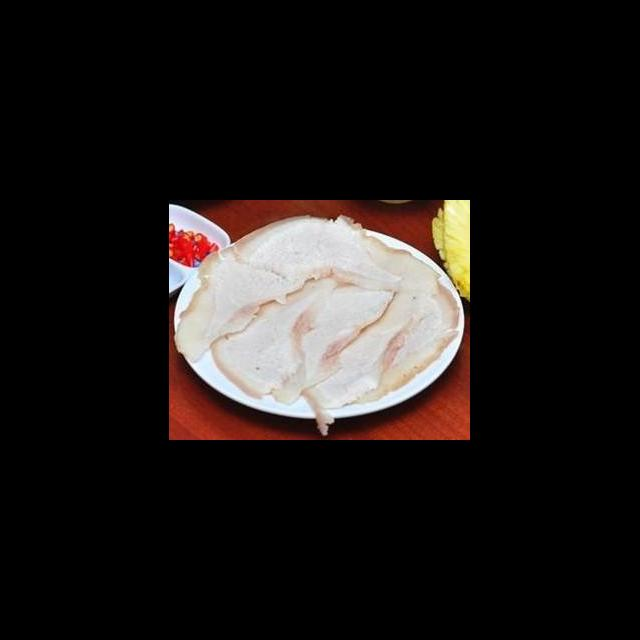thit heo: (172, 210, 406, 366), (290, 212, 444, 438), (208, 268, 346, 401), (260, 281, 400, 408), (346, 277, 462, 406)
